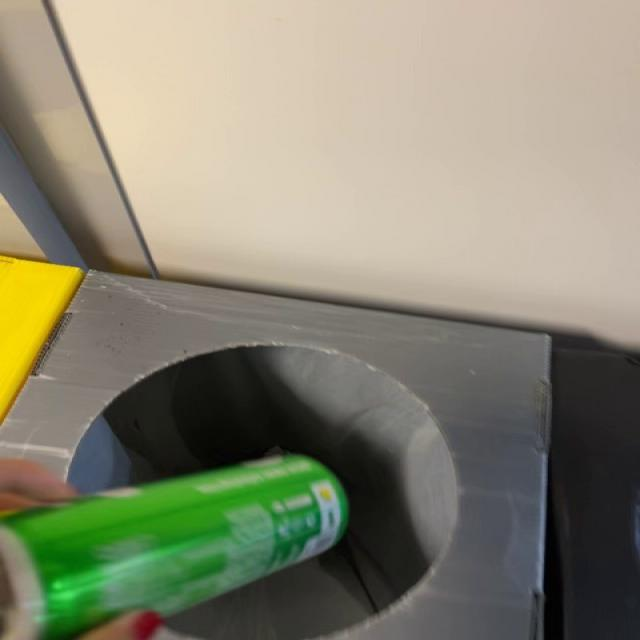bin: (3, 273, 551, 640)
metal: (1, 455, 348, 640)
